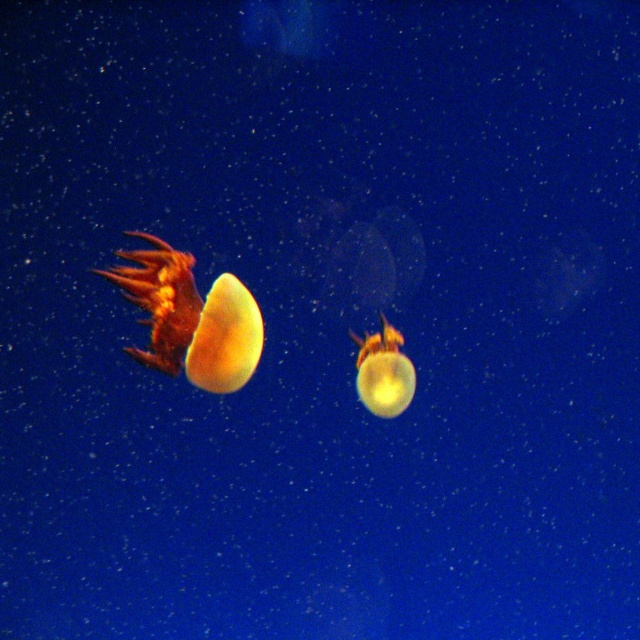Jellyfish: (93, 229, 265, 397), (349, 310, 416, 421)
